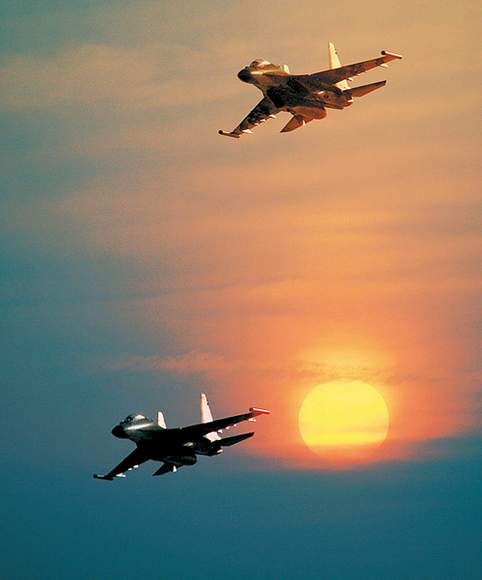airplane: (211, 44, 406, 143), (95, 387, 273, 488)
